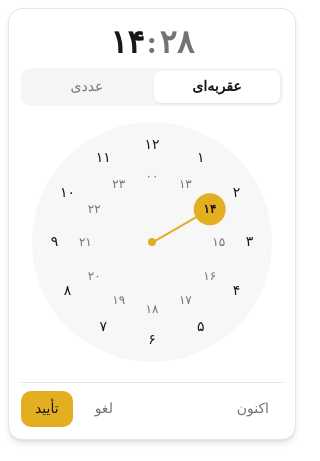
minute intervals › keeps the 5-step ring for an interval that does not divide the hour
Click the radio button labelled "۹" at (54, 242), box 38,226 -> 70,258
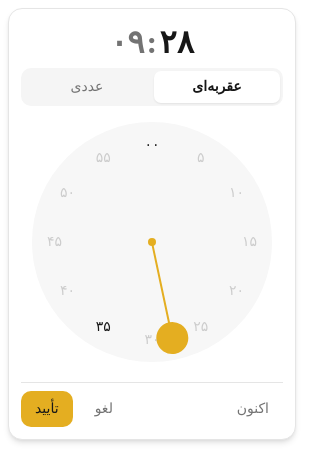
Check: the radio button labelled "۵" is disabled, box 185,142 -> 217,174
